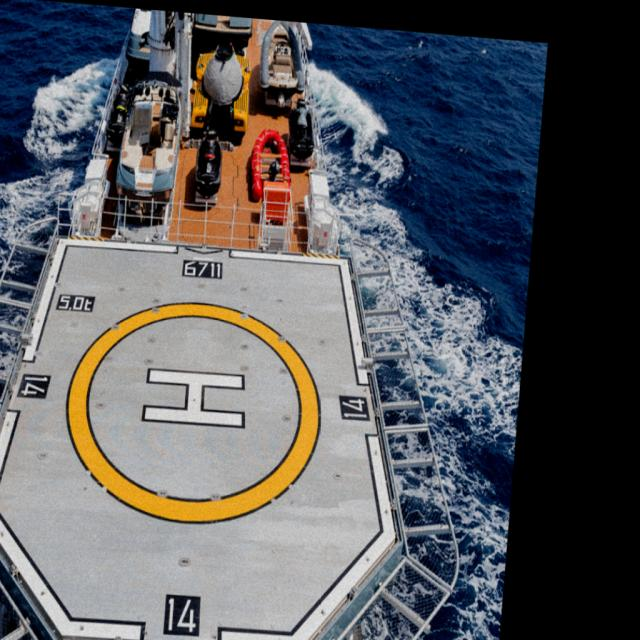helipad: (59, 297, 324, 528)
